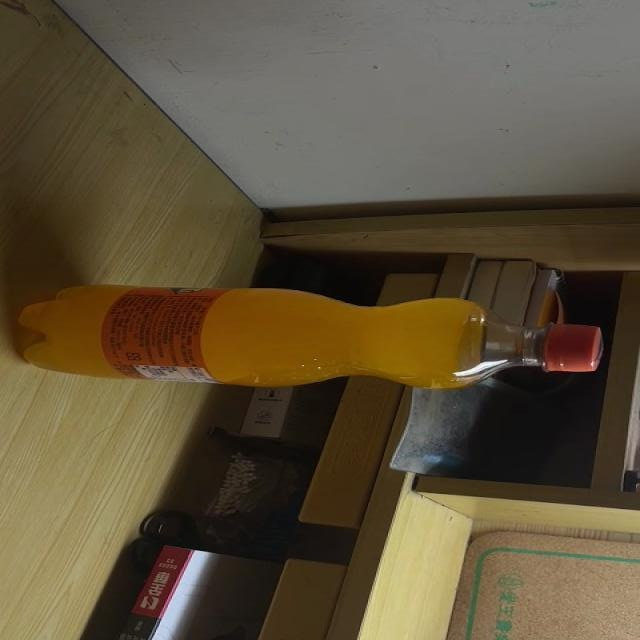Fanta: (14, 285, 602, 388)
